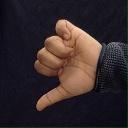hand: (33, 18, 102, 111)
